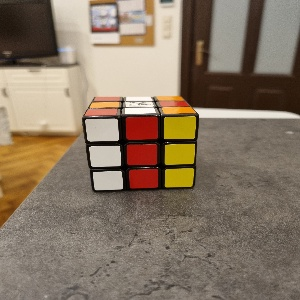cube: (82, 96, 199, 191)
